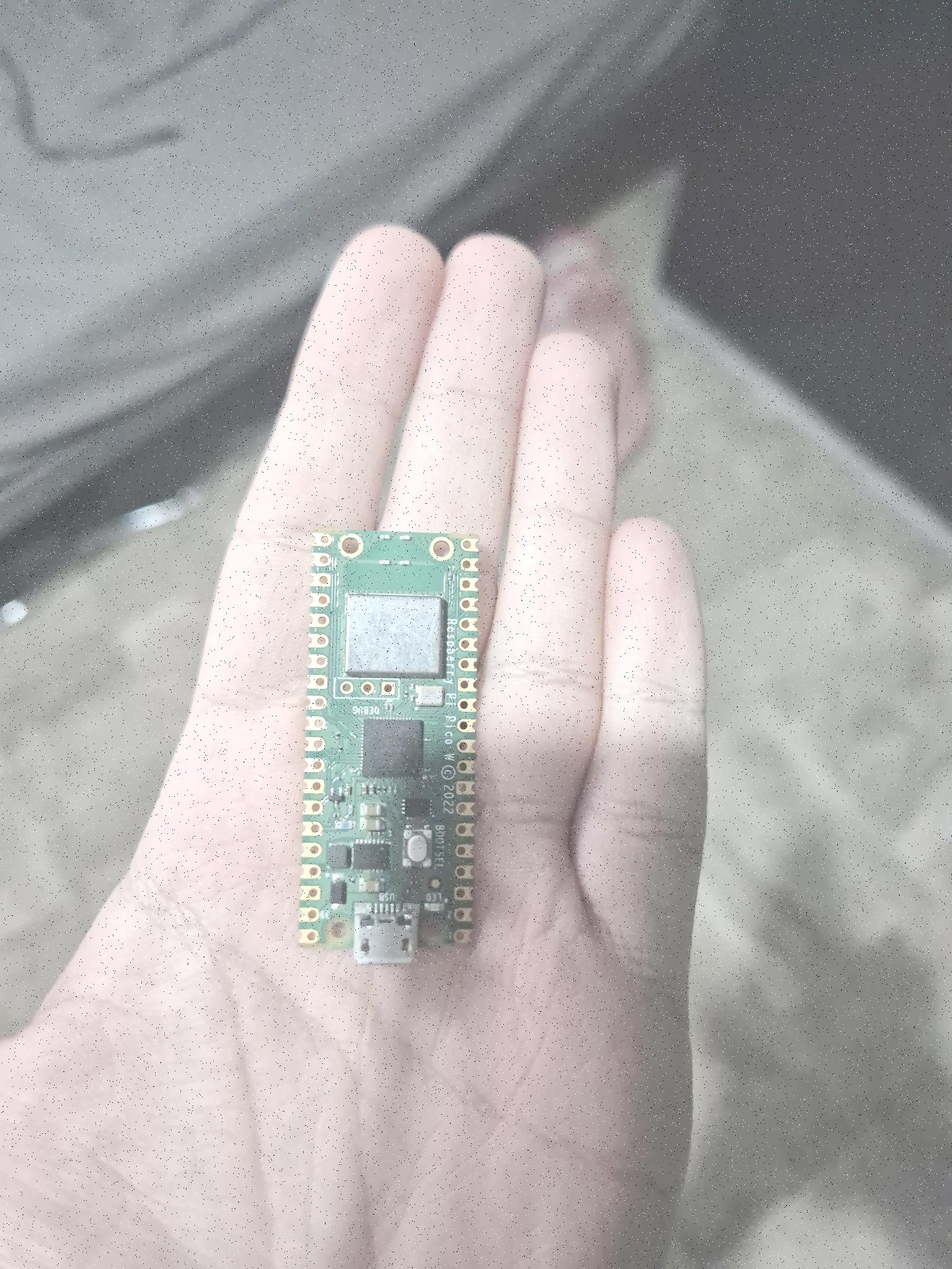raspberry-pi-pico-w: (299, 529, 479, 964)
